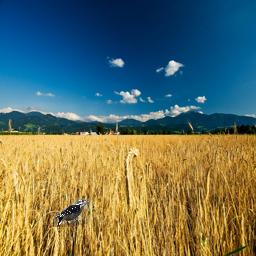Woodpecker: (54, 199, 91, 227)
